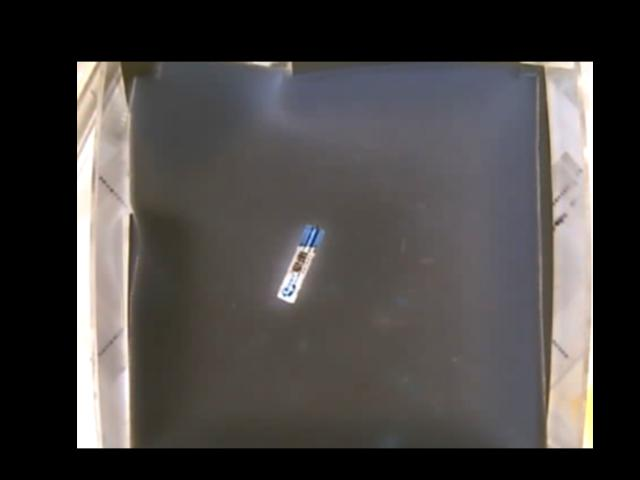Battery: (280, 223, 322, 304)
